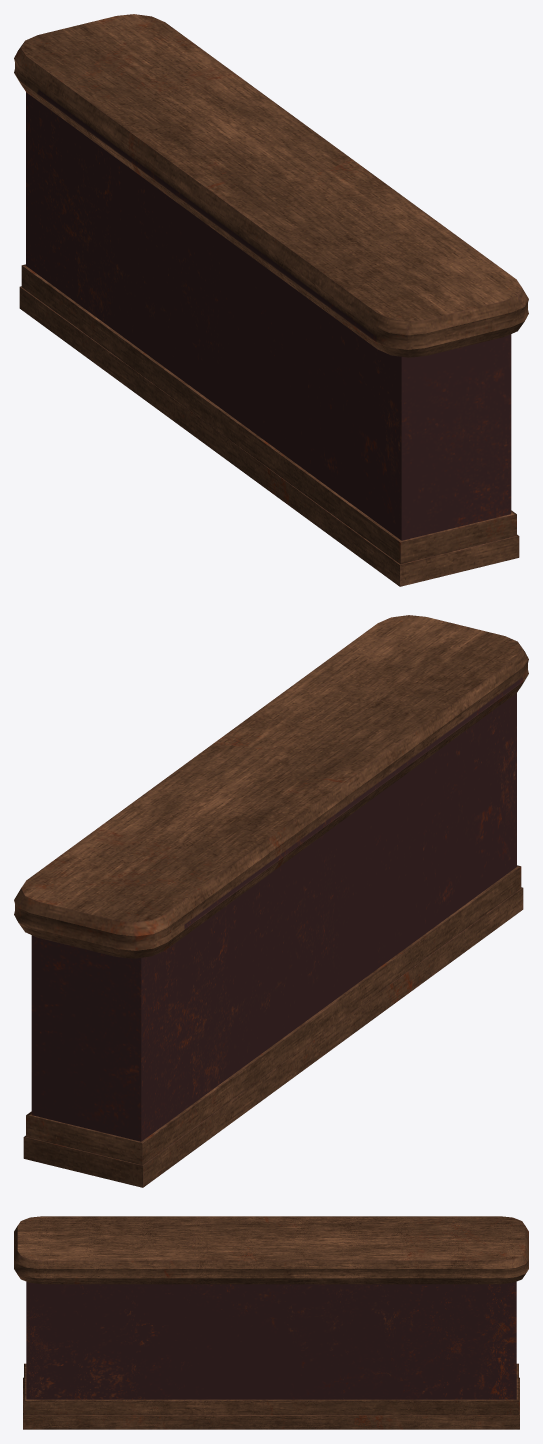
The model's file is Asset_Desk_B_low.fbx.
The picture shows the model from 3 angles, top to bottom: view 1: azimuth 30°, elevation 25°; view 2: azimuth 150°, elevation 25°; view 3: azimuth 270°, elevation 25°; orthographic projection. The views are drawn at different scales.
Parts seen in each view (by area): view 1: Asset_Desk_B_Low; view 2: Asset_Desk_B_Low; view 3: Asset_Desk_B_Low.
Boxes of the visible parts, <box> form: Asset_Desk_B_Low: <box>14,14,528,586</box>; Asset_Desk_B_Low: <box>14,615,528,1187</box>; Asset_Desk_B_Low: <box>14,1216,528,1429</box>.
Size of the model in its own units: 65.76 by 113 by 304.
Materials: 1 (1 with a texture image).
